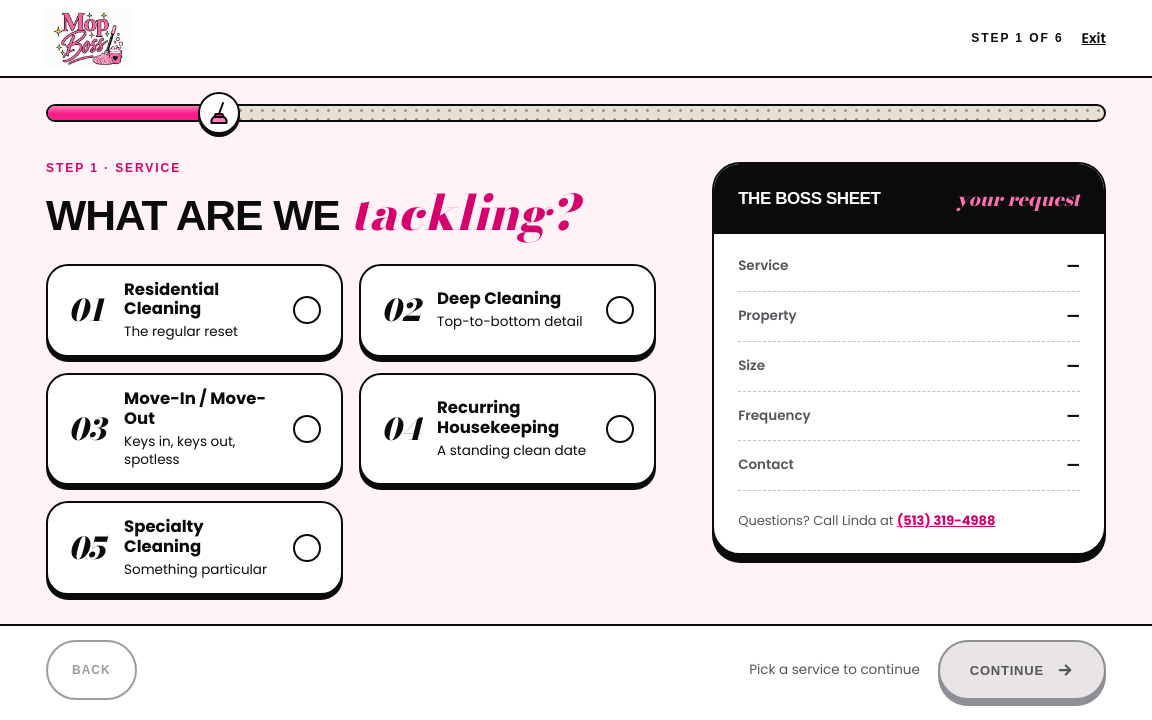
Test case: QuoteFlow › moves focus to the step heading on each step change
Click the button "01 Residential Cleaning The regular reset" at (195, 310), box x1=46 y1=264 x2=343 y2=357
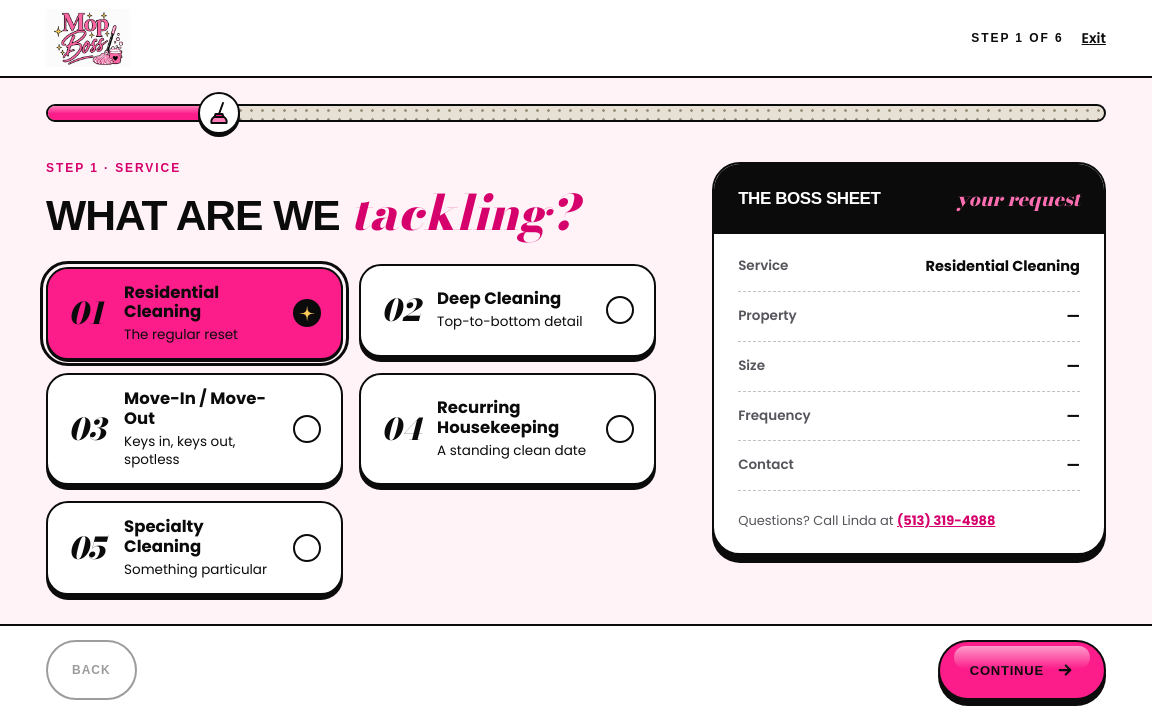
Click the button "Continue" at (1022, 670), box x1=938 y1=640 x2=1106 y2=700
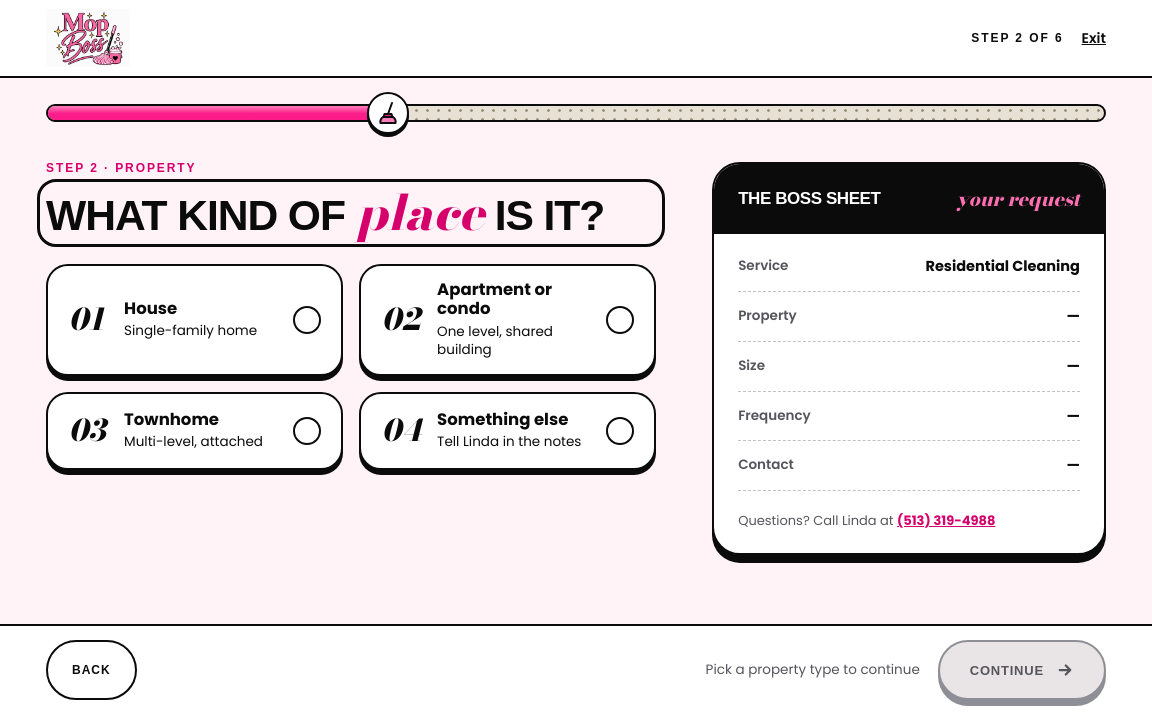
expect the heading reads "What kind of place is it?": met, box x1=46 y1=188 x2=656 y2=238
